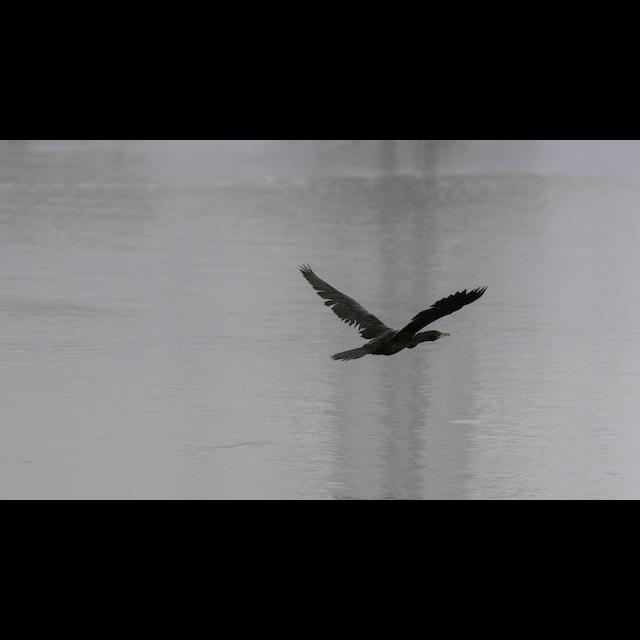cormorant: (303, 266, 485, 362)
